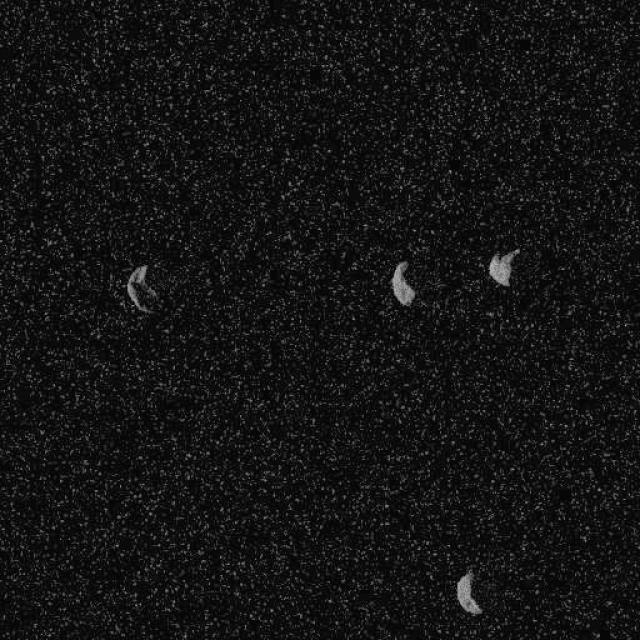D2: (125, 263, 163, 315), (486, 246, 520, 286), (455, 569, 483, 615), (389, 260, 415, 306)
